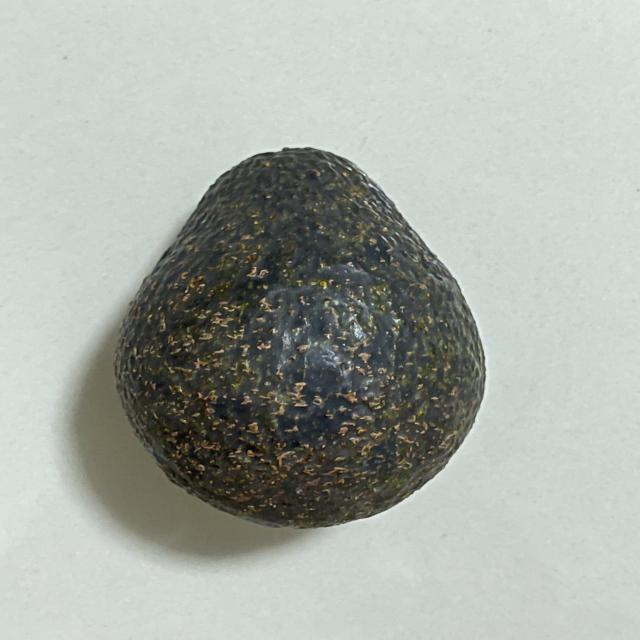Level2: (104, 138, 496, 536)
